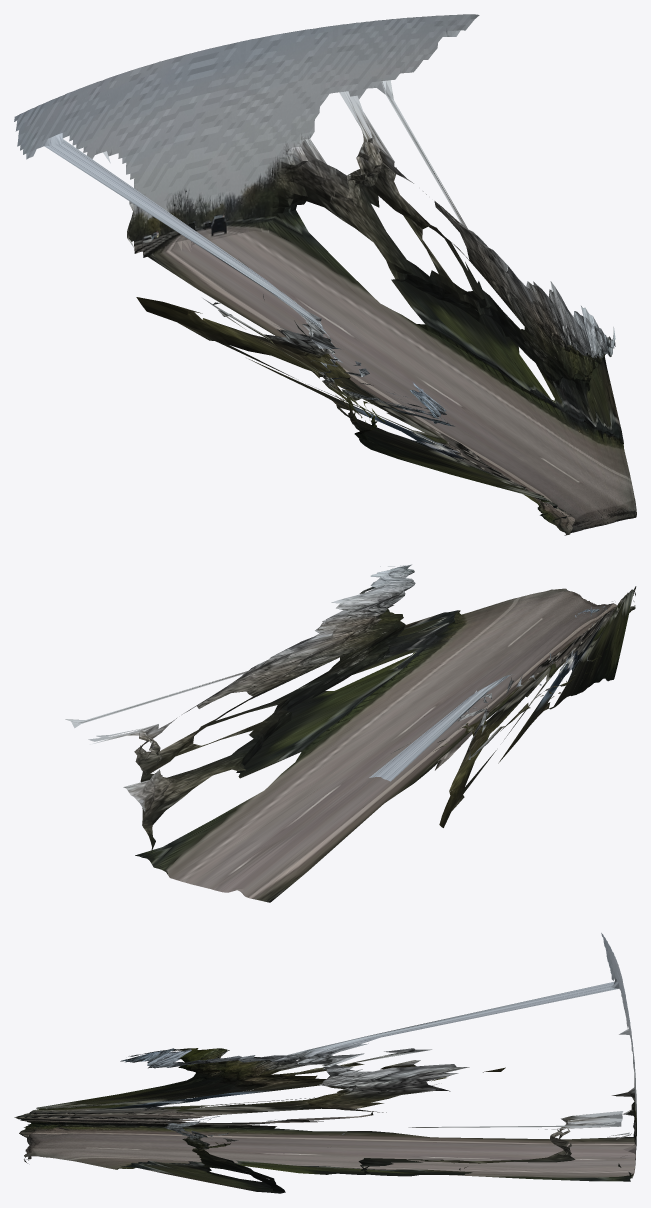
3 renders of one model, top to bottom at view 1: azimuth 30°, elevation 25°; view 2: azimuth 150°, elevation 25°; view 3: azimuth 270°, elevation 25°, orthographic. The views are drawn at different scales.
Parts seen in each view (by area): view 1: defaultobject; view 2: defaultobject; view 3: defaultobject.
Part boxes in pixels (x1,y1,x2,y2): defaultobject: [14, 14, 636, 535]; defaultobject: [65, 564, 636, 902]; defaultobject: [14, 933, 636, 1193].
Bounding box in the file's own units: 29.06 × 12.19 × 45.12.
1 material, 1 textured.
